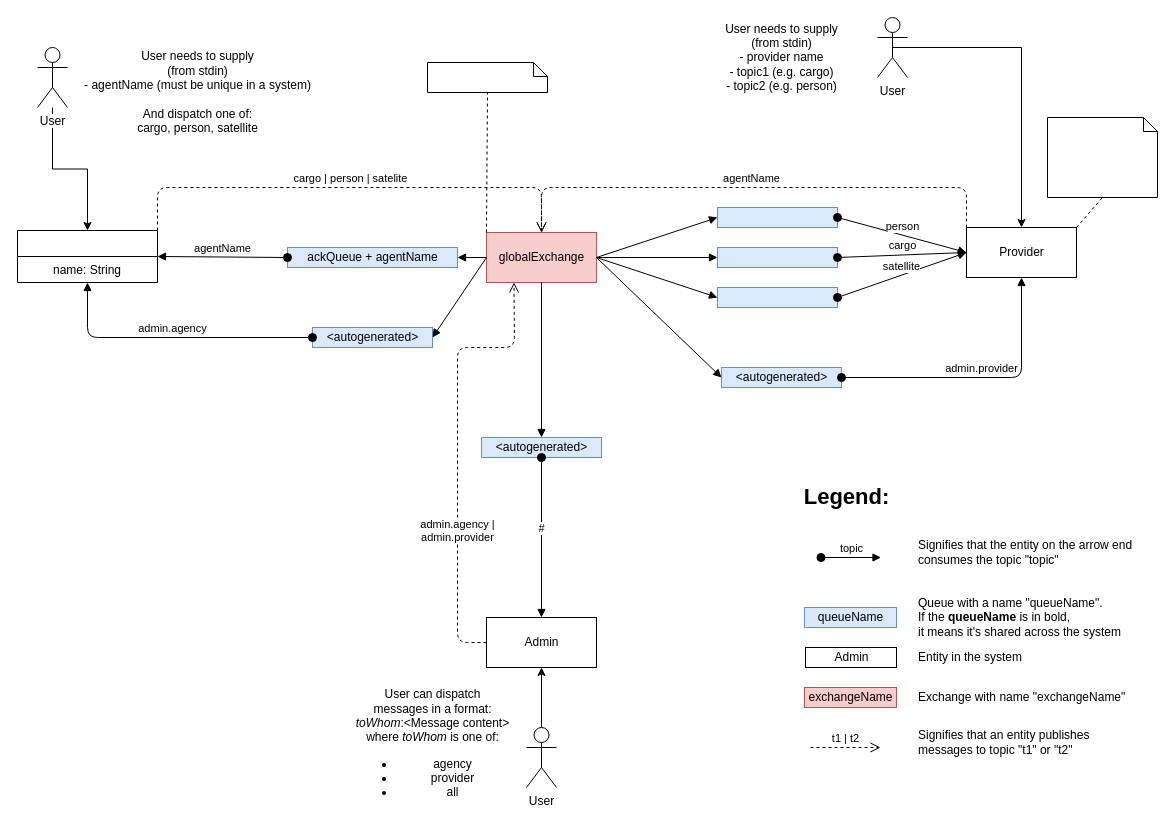
This 1175x832 diagram has some shape labels left out. The box of each missing label's shape, as (x1, y1, x2, y2) in pixels:
Agency: (16, 230, 158, 282)
cargoQueue: (716, 246, 838, 268)
Exchange type is TOPIC: (426, 62, 548, 92)
personQueue: (716, 206, 838, 228)
Provider will only listen to 2 out of 3 topics (person, cargo, satellite): (1046, 116, 1158, 198)
satelliteQueue: (716, 286, 838, 308)
